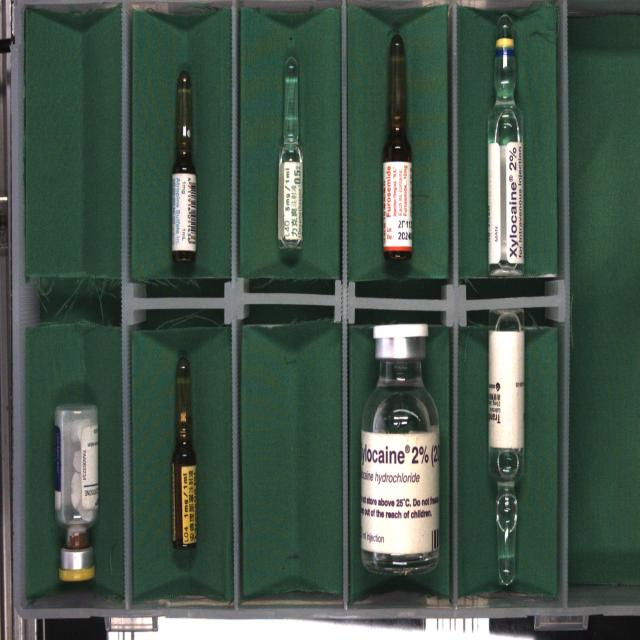Vials: (361, 324, 440, 574), (54, 405, 98, 581), (77, 571, 81, 577)
